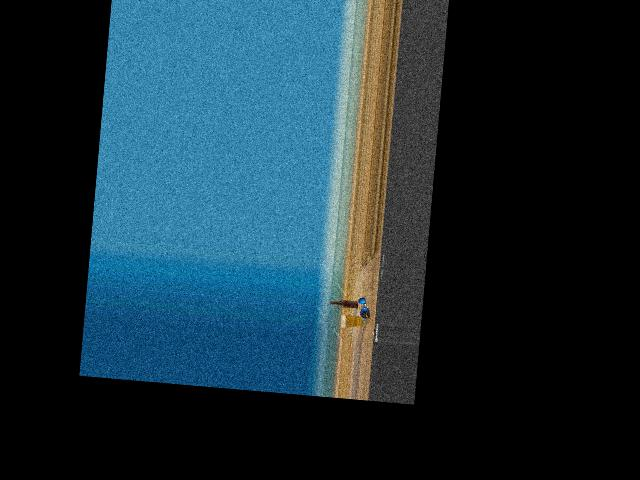beer: (329, 298, 358, 308)
